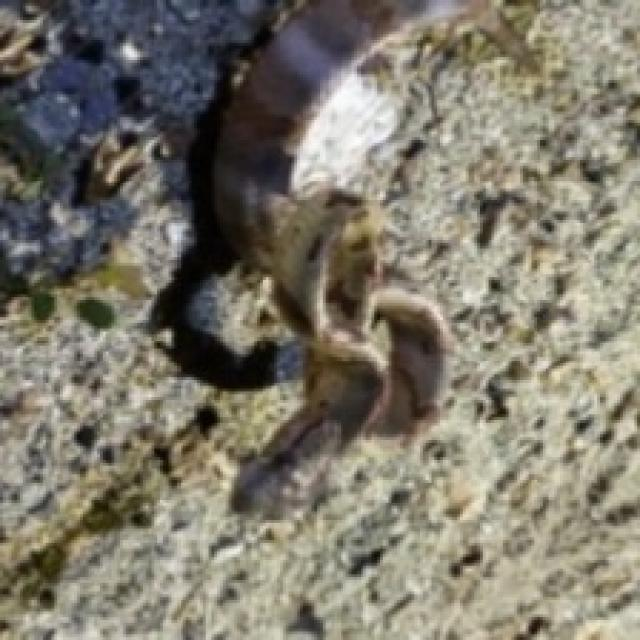dog-toothed cat snake: (191, 0, 446, 514)
